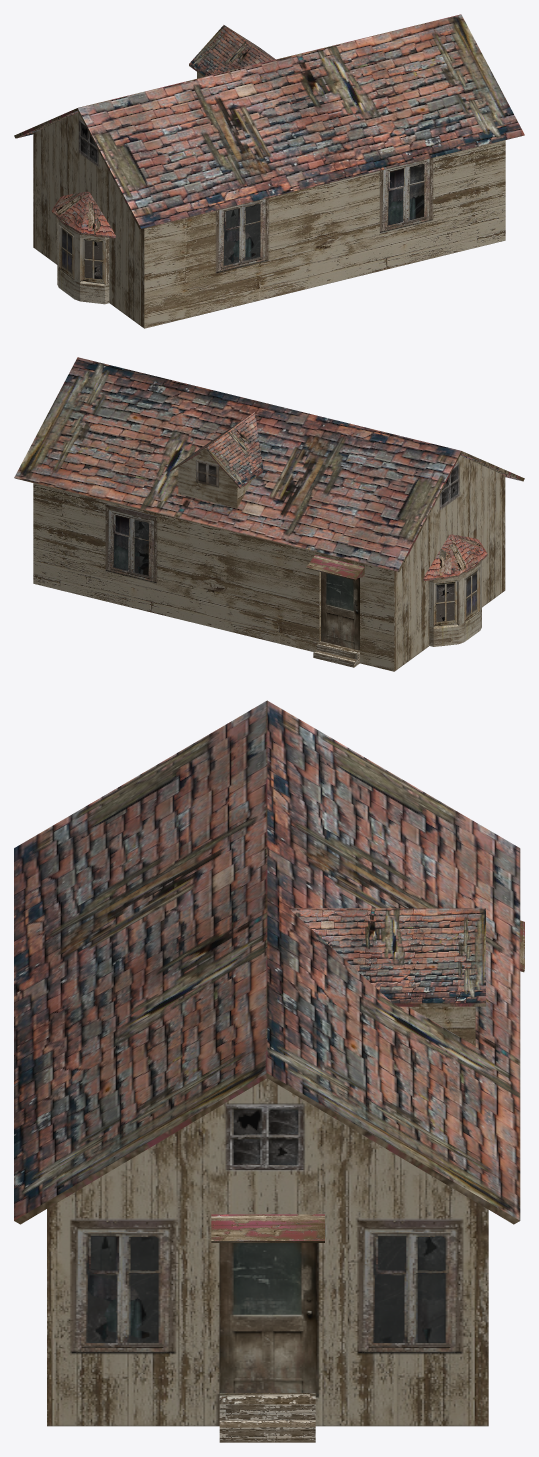
Rendered from cottage2.obj.
3 renders of one model, top to bottom at view 1: azimuth 30°, elevation 25°; view 2: azimuth 150°, elevation 25°; view 3: azimuth 270°, elevation 25°, orthographic. The views are drawn at different scales.
Visible parts, largest first — view 1: Cube; view 2: Cube; view 3: Cube.
Part boxes in pixels (box(x1,y1,x2,y2)): Cube: box(14, 14, 524, 328); Cube: box(14, 357, 524, 671); Cube: box(14, 700, 524, 1442).
Bounding box in the file's own units: 33.81 × 14.67 × 18.66.
1 material, 1 textured.
